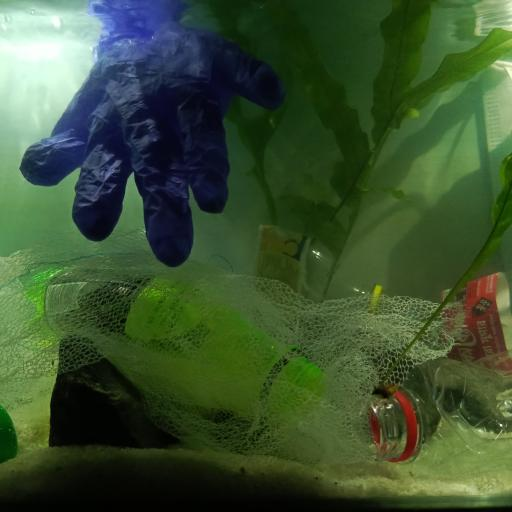glove: (19, 32, 281, 263)
net: (0, 229, 457, 465)
plastic_bottle: (18, 264, 329, 422), (357, 354, 512, 472), (198, 221, 387, 307), (405, 271, 512, 367)
